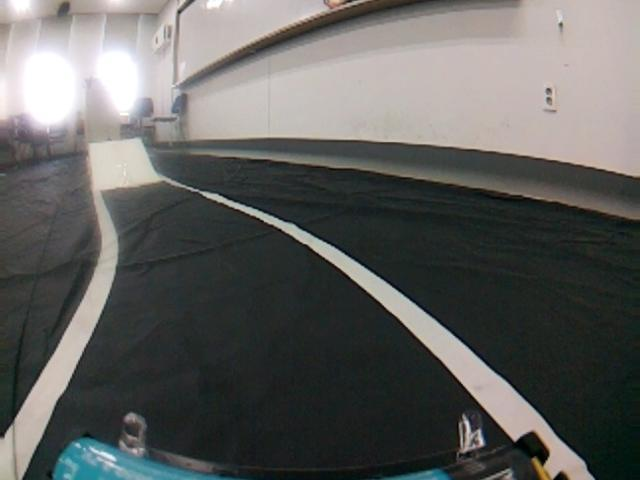straight: (8, 230, 640, 479)
